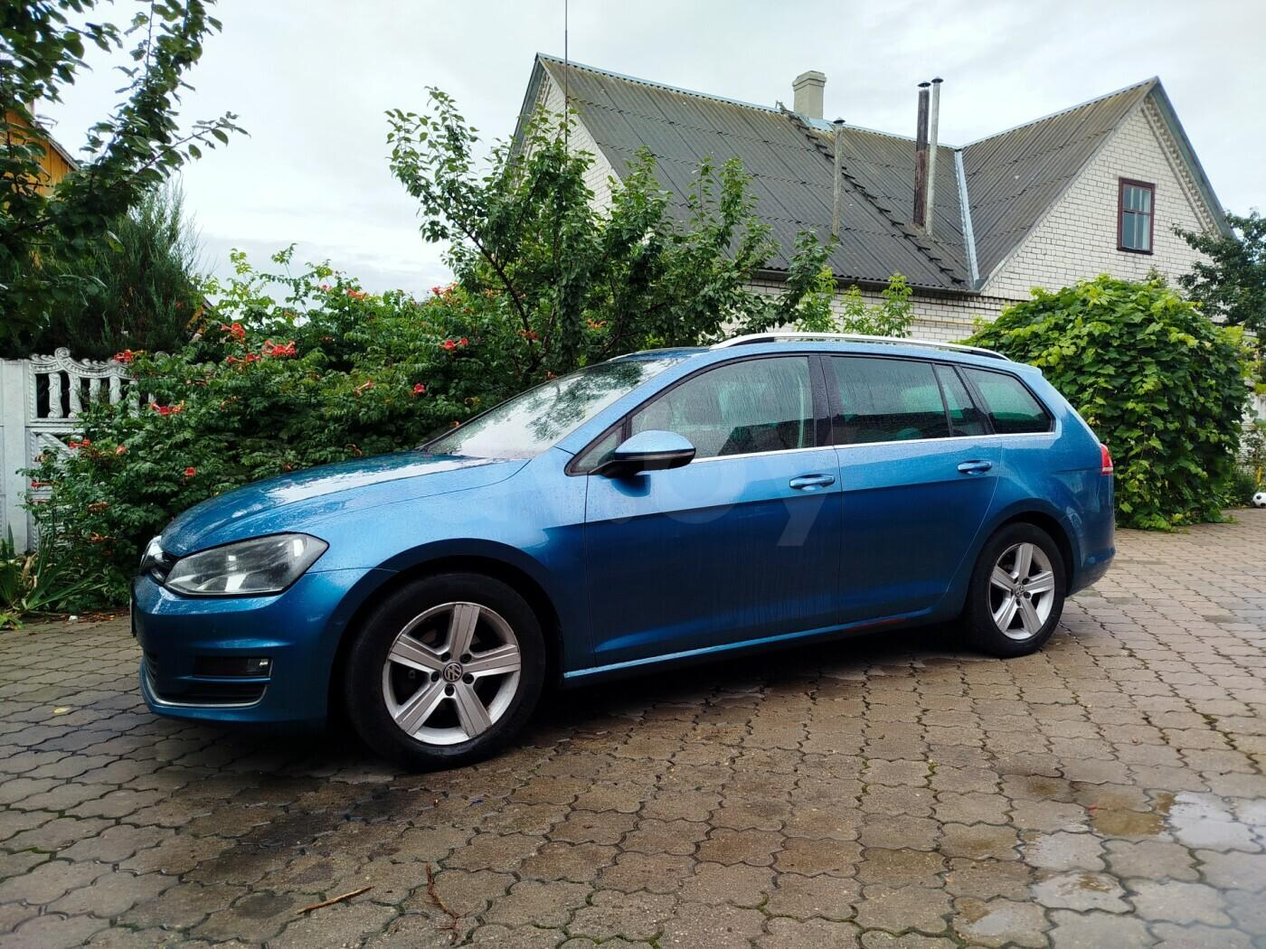Golf_2012-2017: (130, 328, 1121, 773)
